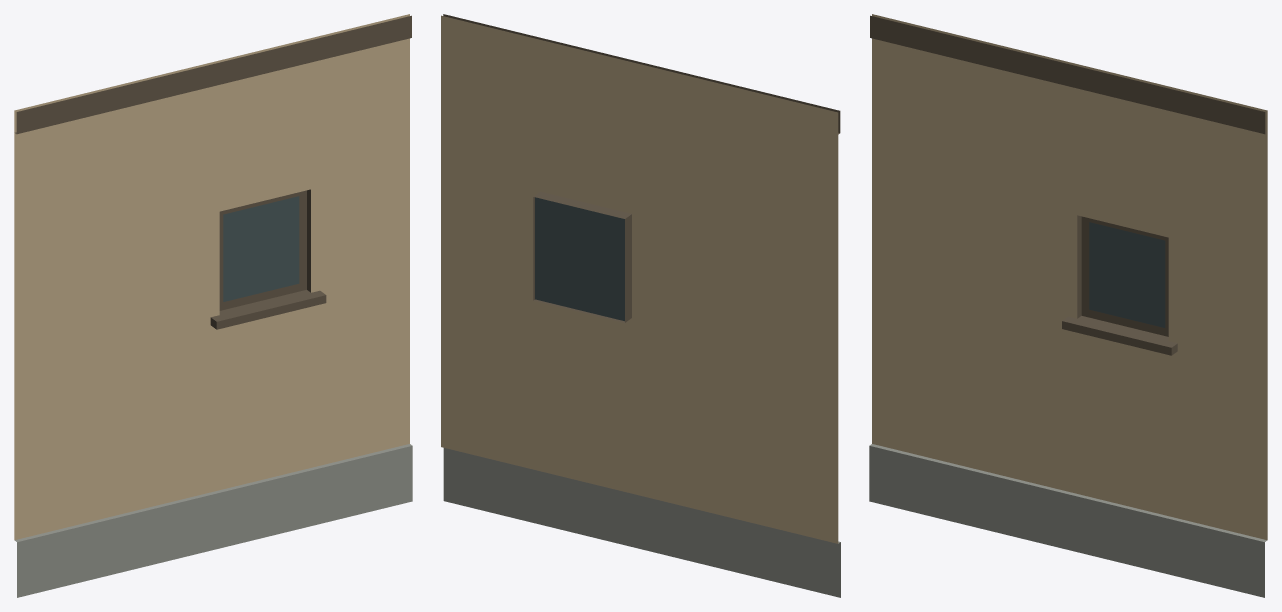
3 views of the same model, side by side, from view 1: azimuth 30°, elevation 25°; view 2: azimuth 150°, elevation 25°; view 3: azimuth 330°, elevation 25° (orthographic).
Parts seen in each view (by area): view 1: a2015/0/base-w4; view 2: a2015/0/base-w4; view 3: a2015/0/base-w4.
Part boxes in pixels (x1,y1,x2,y2): a2015/0/base-w4: (14,14,412,597); a2015/0/base-w4: (441,14,840,597); a2015/0/base-w4: (869,14,1267,597).
Size of the model in its own units: 2.6 by 3.05 by 0.15.
